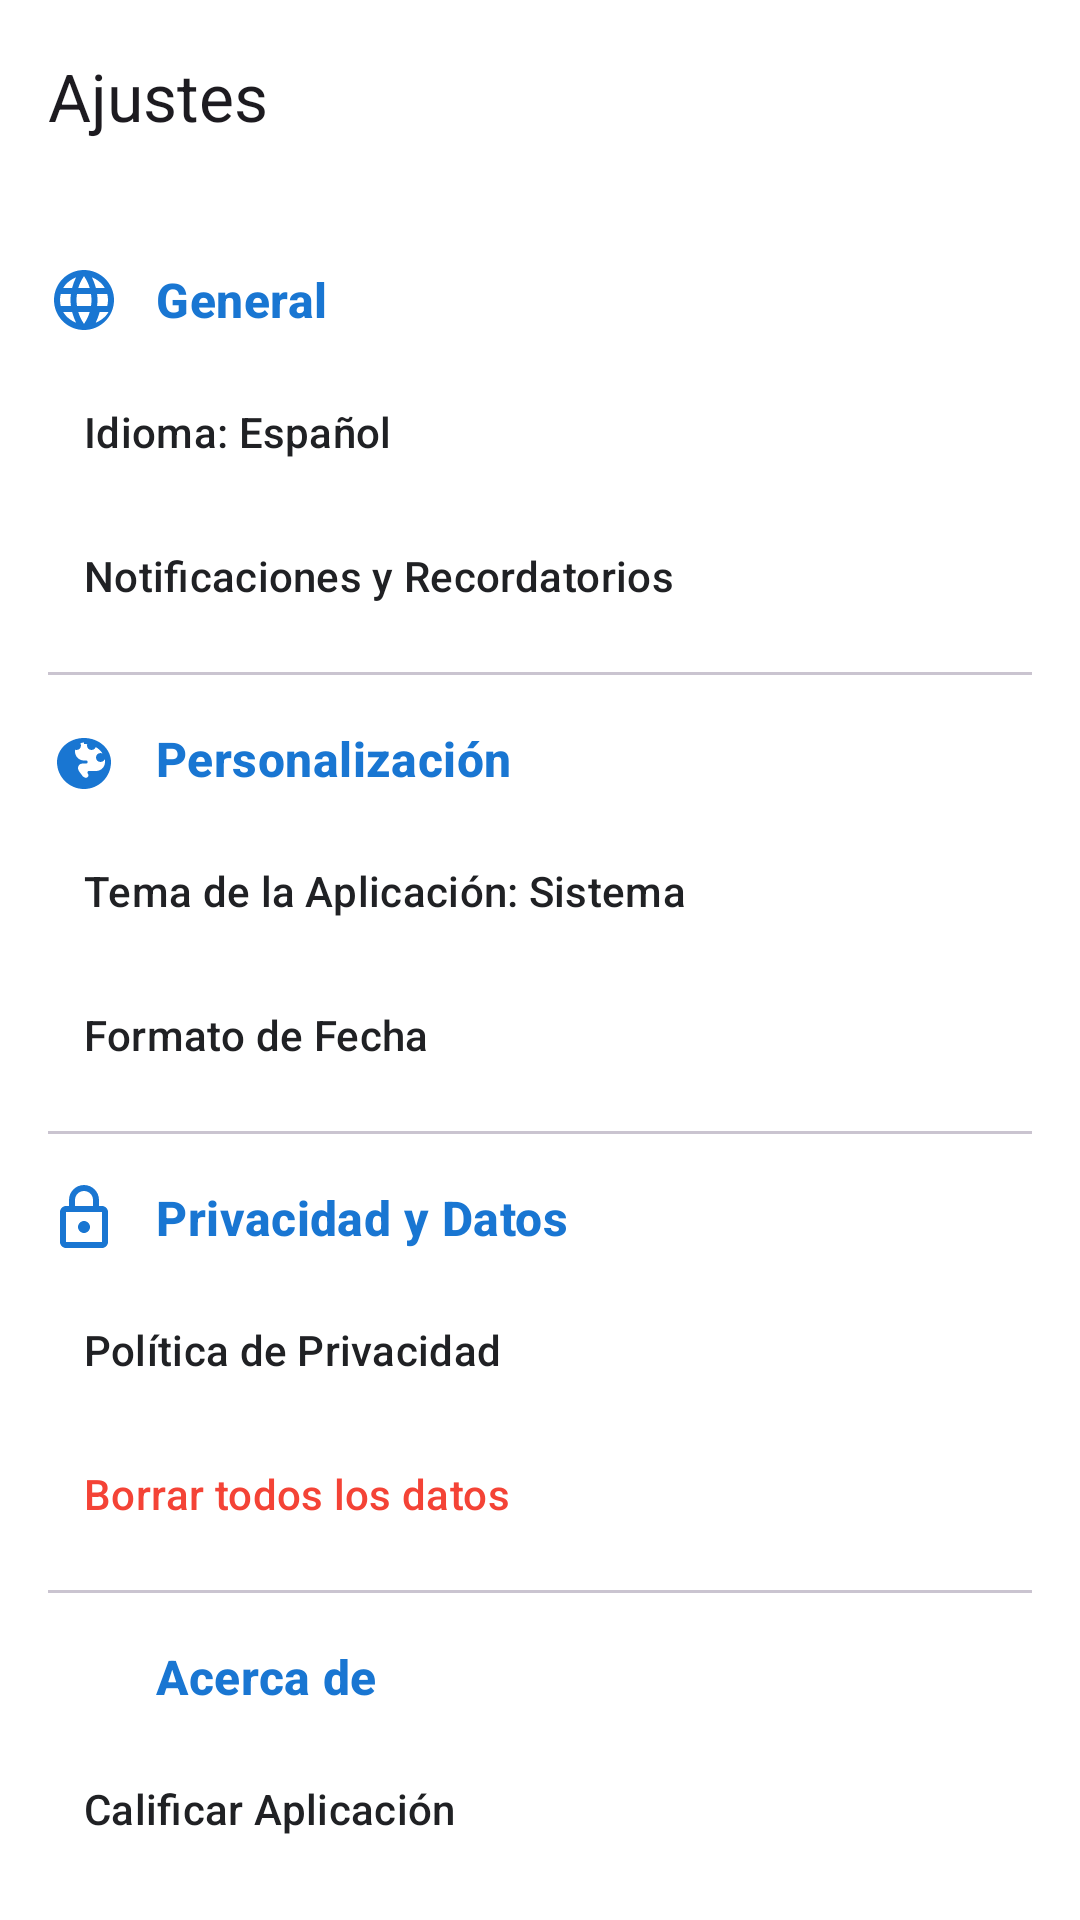

Screen size 1080 x 1920. Icon name, then its center in pixels as [x,y]:
language: [84,300]
lock: [84,1216]
